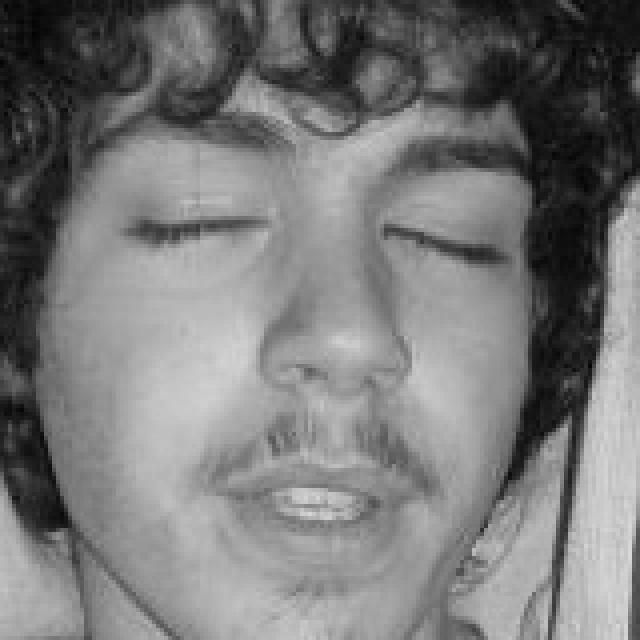real: (40, 64, 538, 628), (122, 166, 506, 318)
